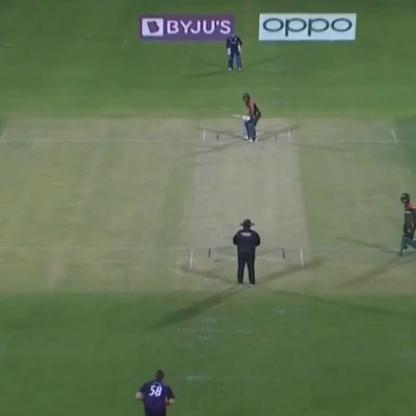bat: (220, 108, 246, 124)
pitch: (200, 129, 308, 273)
